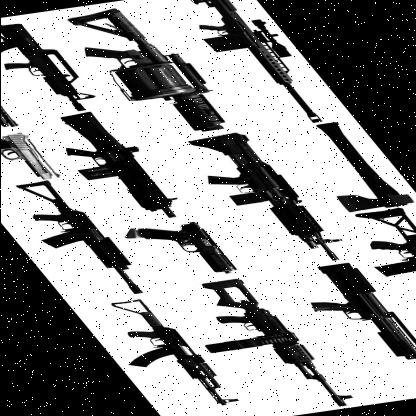rifle: (167, 276, 359, 416), (172, 129, 356, 269), (160, 0, 351, 128), (26, 106, 210, 227), (76, 292, 251, 416), (0, 167, 154, 300), (276, 258, 416, 369), (0, 18, 110, 118), (0, 32, 29, 135)
